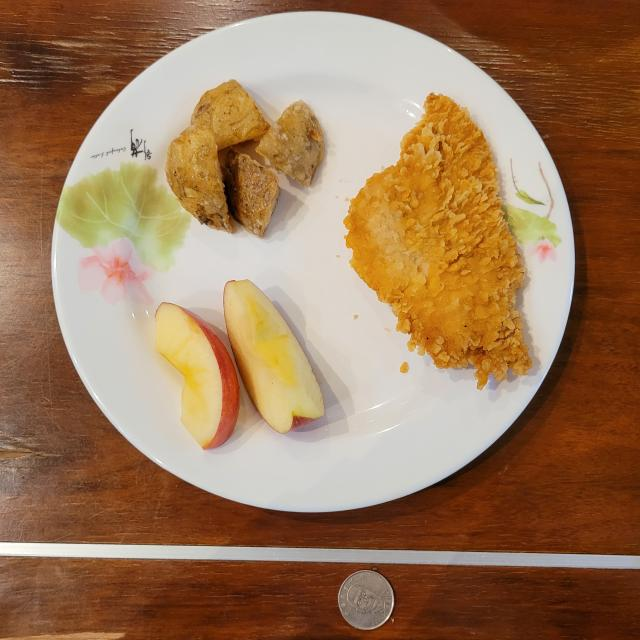apple -sliced-: (224, 280, 325, 432), (155, 302, 239, 450)
coin: (339, 570, 394, 630)
fried chicken cutlet: (344, 94, 531, 389)
fried potato: (165, 80, 325, 238)
